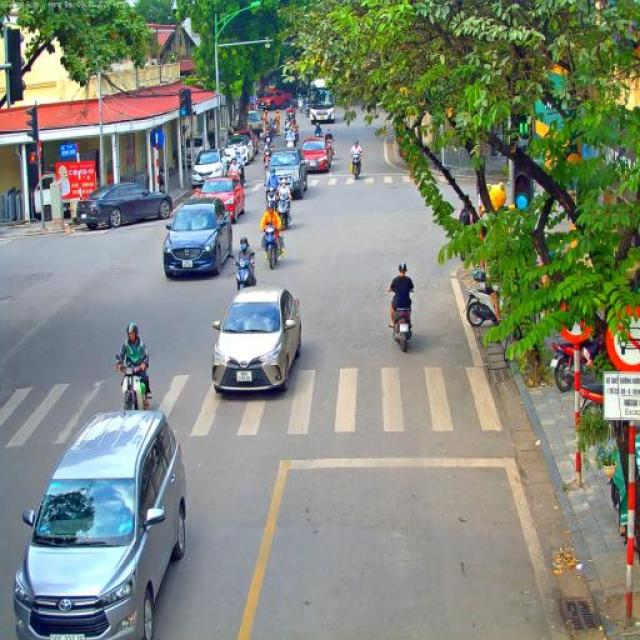bus: (306, 76, 336, 125)
car: (13, 406, 188, 640), (212, 285, 302, 394), (162, 195, 233, 279), (75, 182, 173, 232), (193, 175, 247, 224), (266, 146, 308, 199), (192, 148, 226, 190), (299, 137, 333, 174), (222, 136, 250, 173), (230, 130, 256, 161), (255, 90, 293, 110), (245, 110, 264, 145)
motorcycle: (549, 332, 605, 392), (462, 280, 510, 329), (116, 355, 152, 415), (389, 288, 415, 353), (260, 224, 284, 270), (232, 254, 257, 294), (580, 382, 606, 413), (277, 196, 292, 229), (261, 142, 275, 172), (264, 186, 280, 212), (227, 168, 243, 190), (351, 153, 363, 181), (326, 138, 336, 162), (285, 135, 297, 149), (293, 126, 299, 144), (305, 102, 310, 118), (298, 101, 304, 114)
truck: (28, 164, 78, 222)
